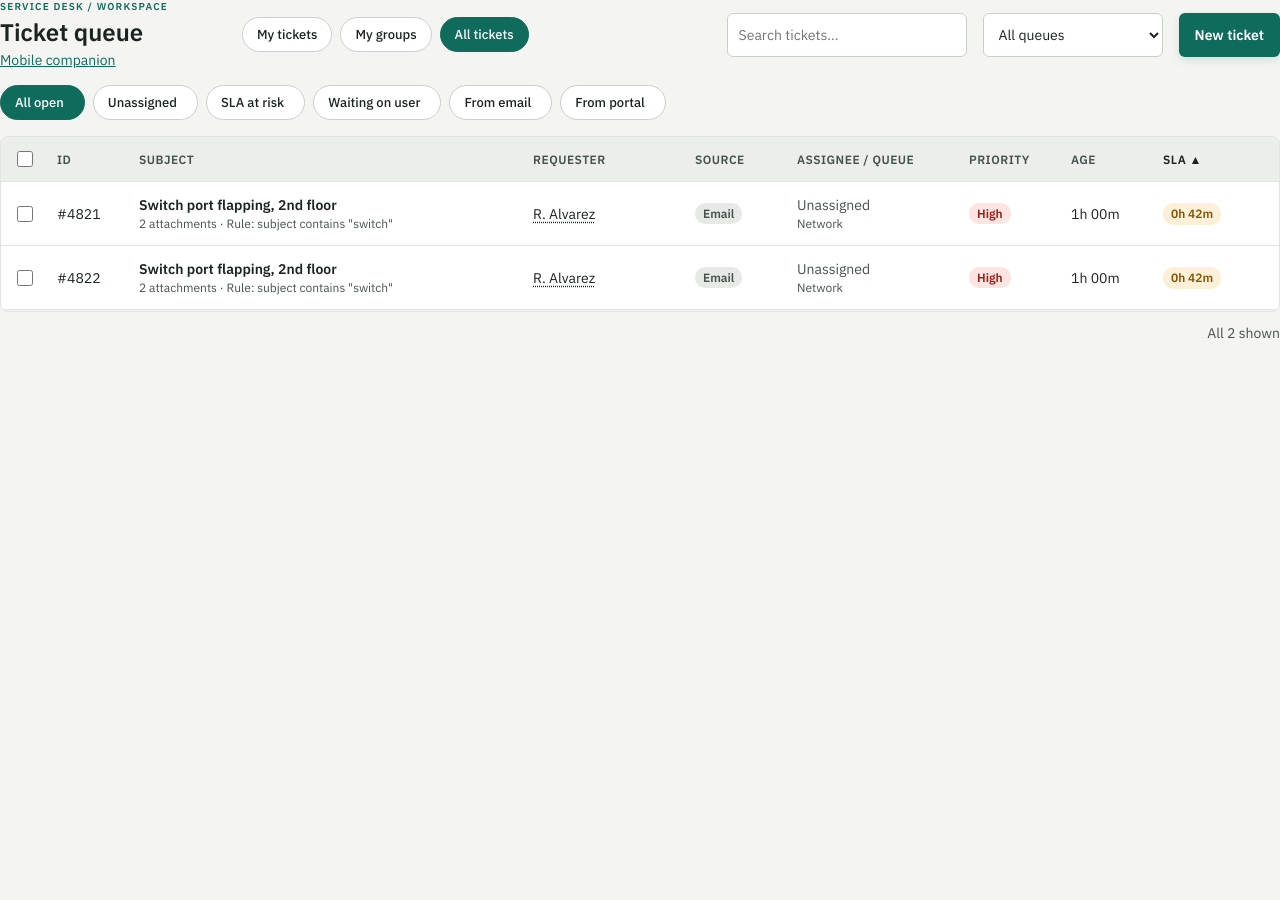
Test: delete permission alone permits selecting tickets but not reassignment
This screenshot has width=1280, height=900.
Click the checkbox named "Select #4821". click: point(25, 214)
box: [17,206,33,222]
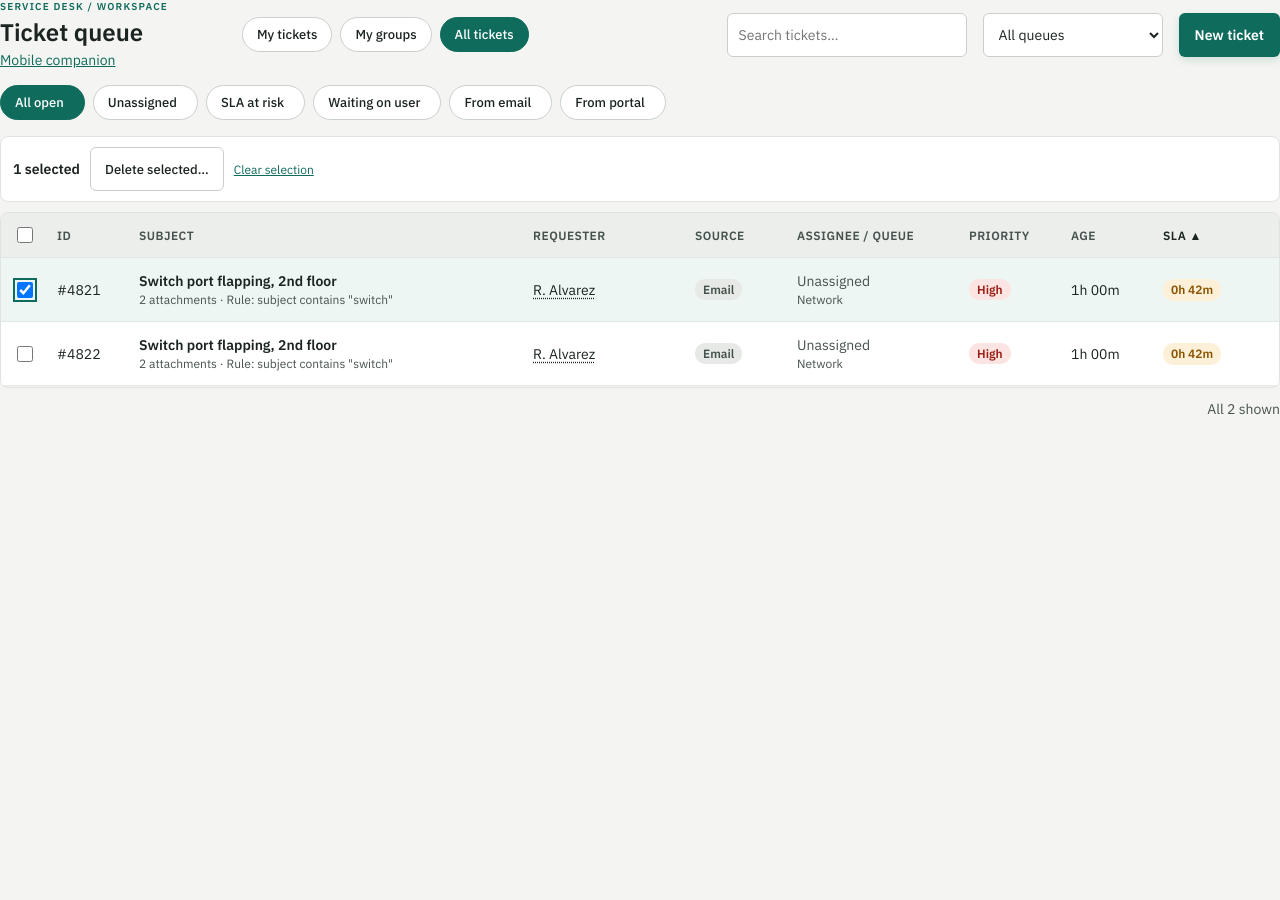
Click the checkbox named "Select #4822". click: point(25, 354)
box: [17,346,33,362]
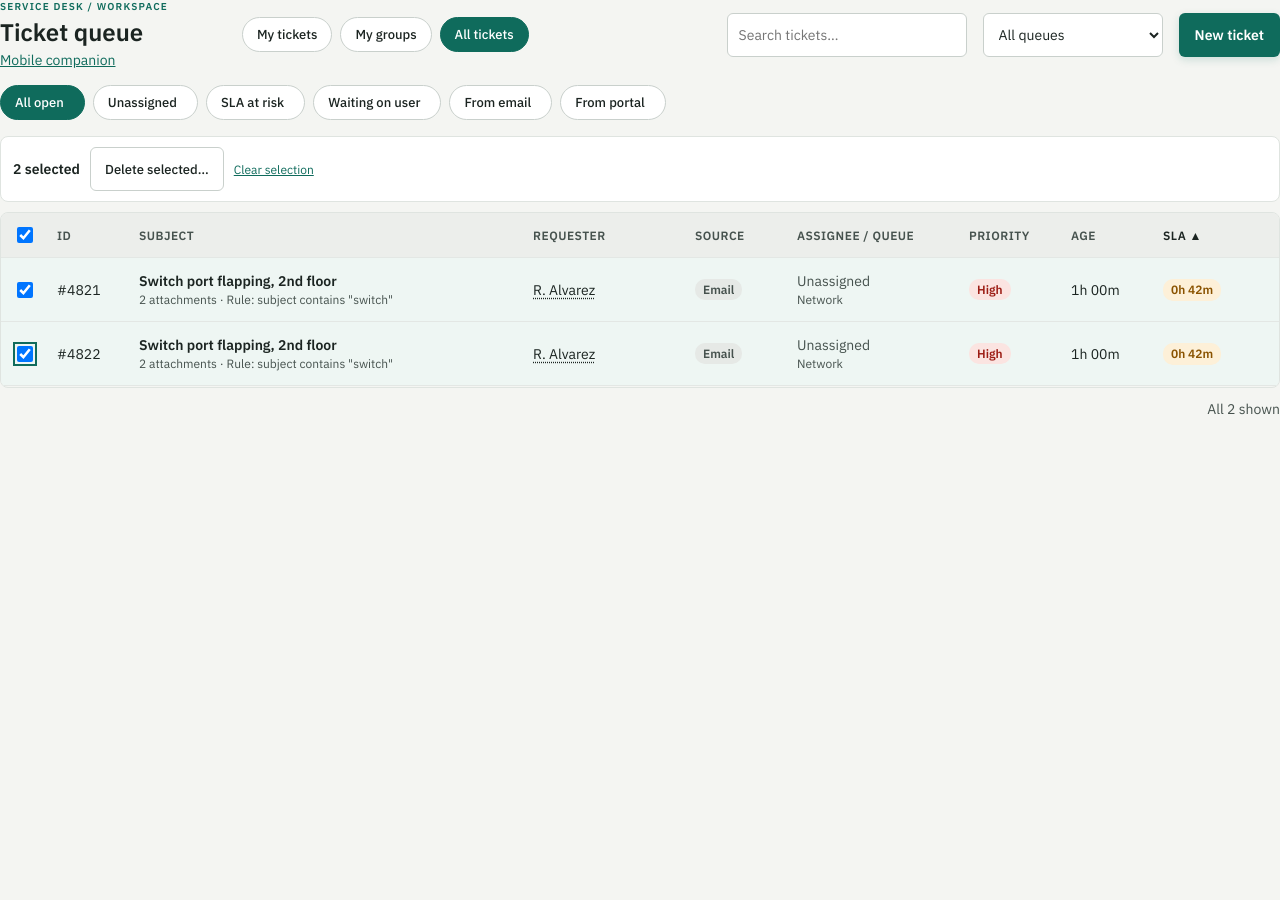
Click the button "Delete selected…". click: point(157, 169)
box: [90,147,224,191]
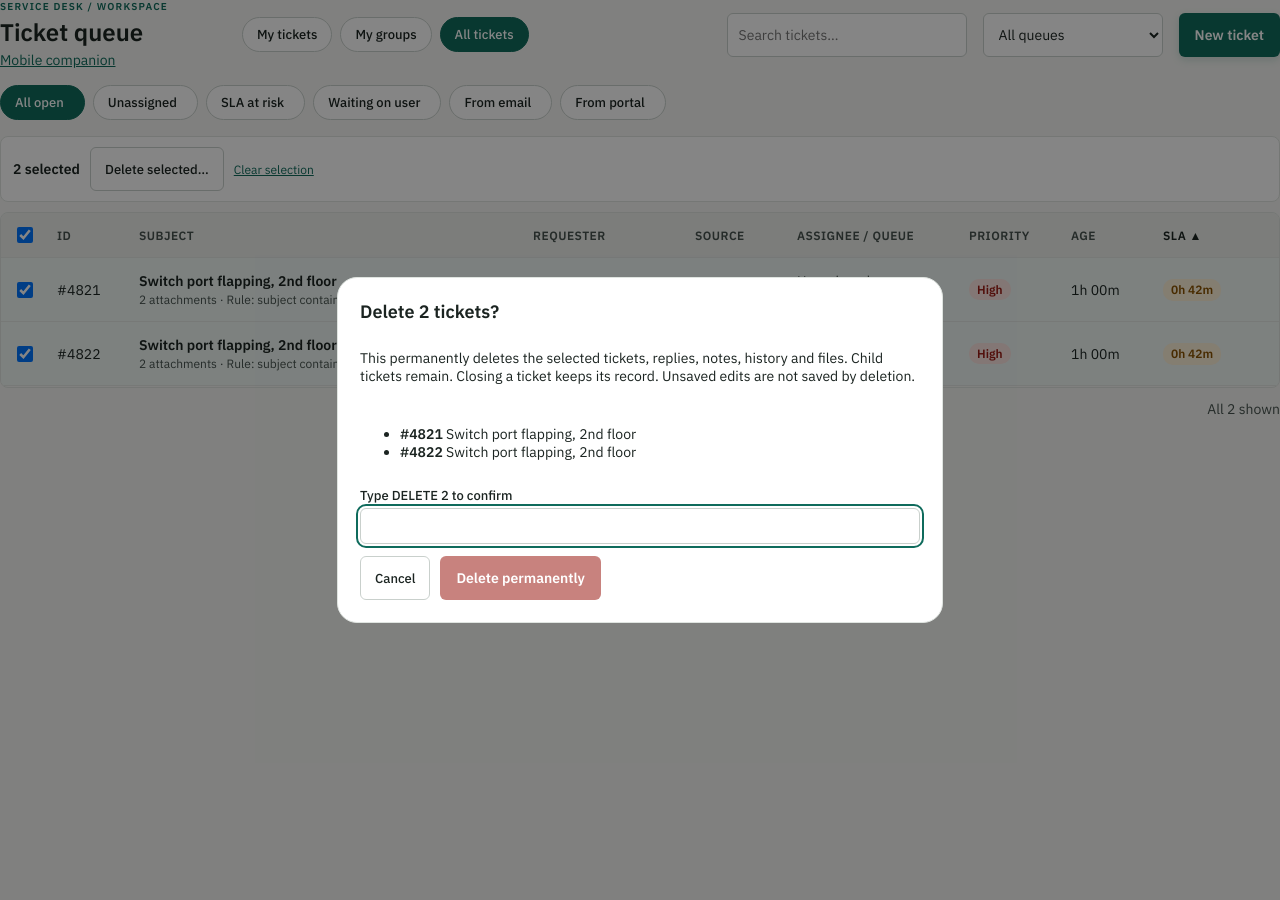
Check: the button "Delete permanently" is disabled, box [440,556,601,600]
Type "DELETE 2" into the field labelled "Type DELETE 2 to confirm". click: point(640, 526)
box: [360,508,920,544]
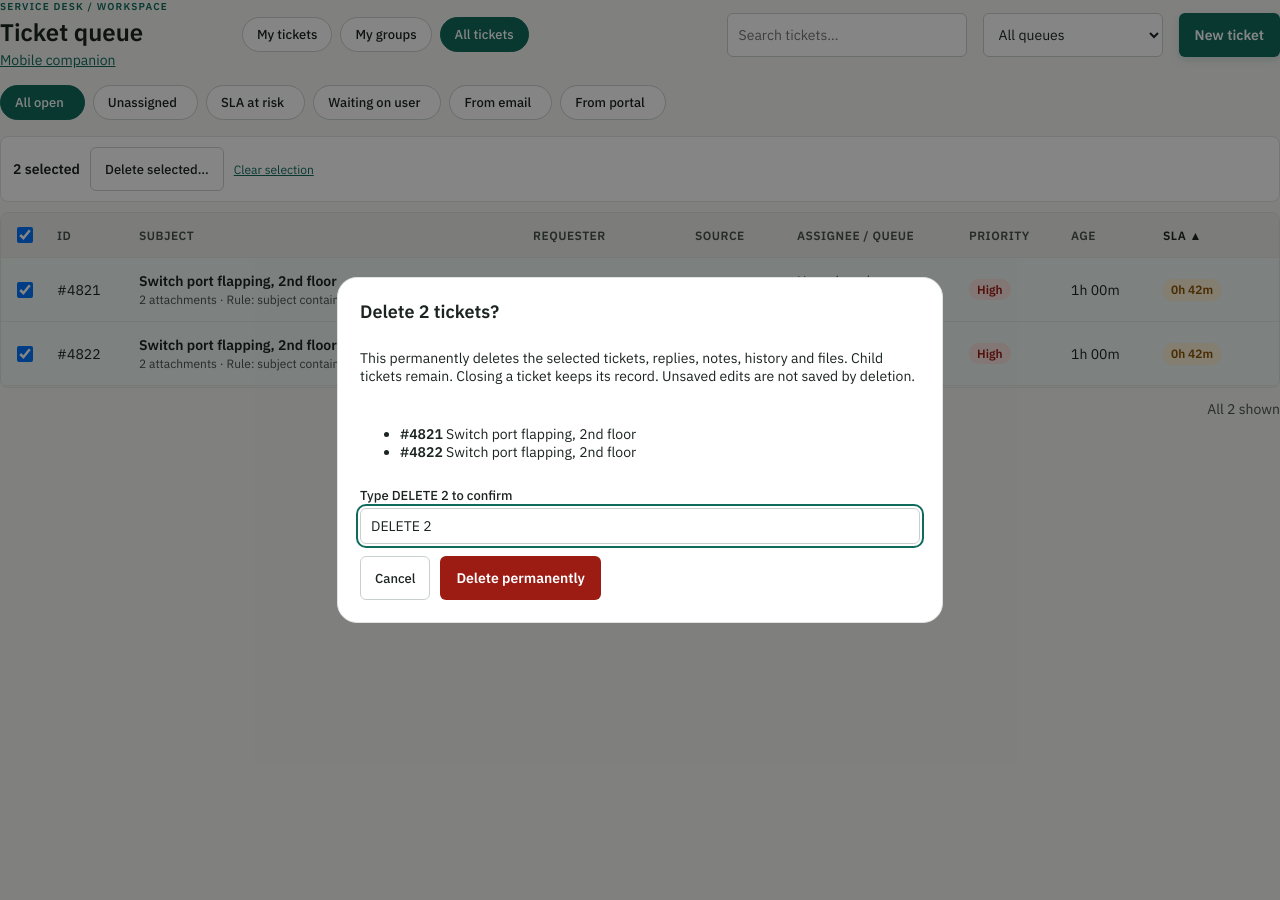
Click the button "Delete permanently". click: point(521, 578)
box: [440,556,601,600]
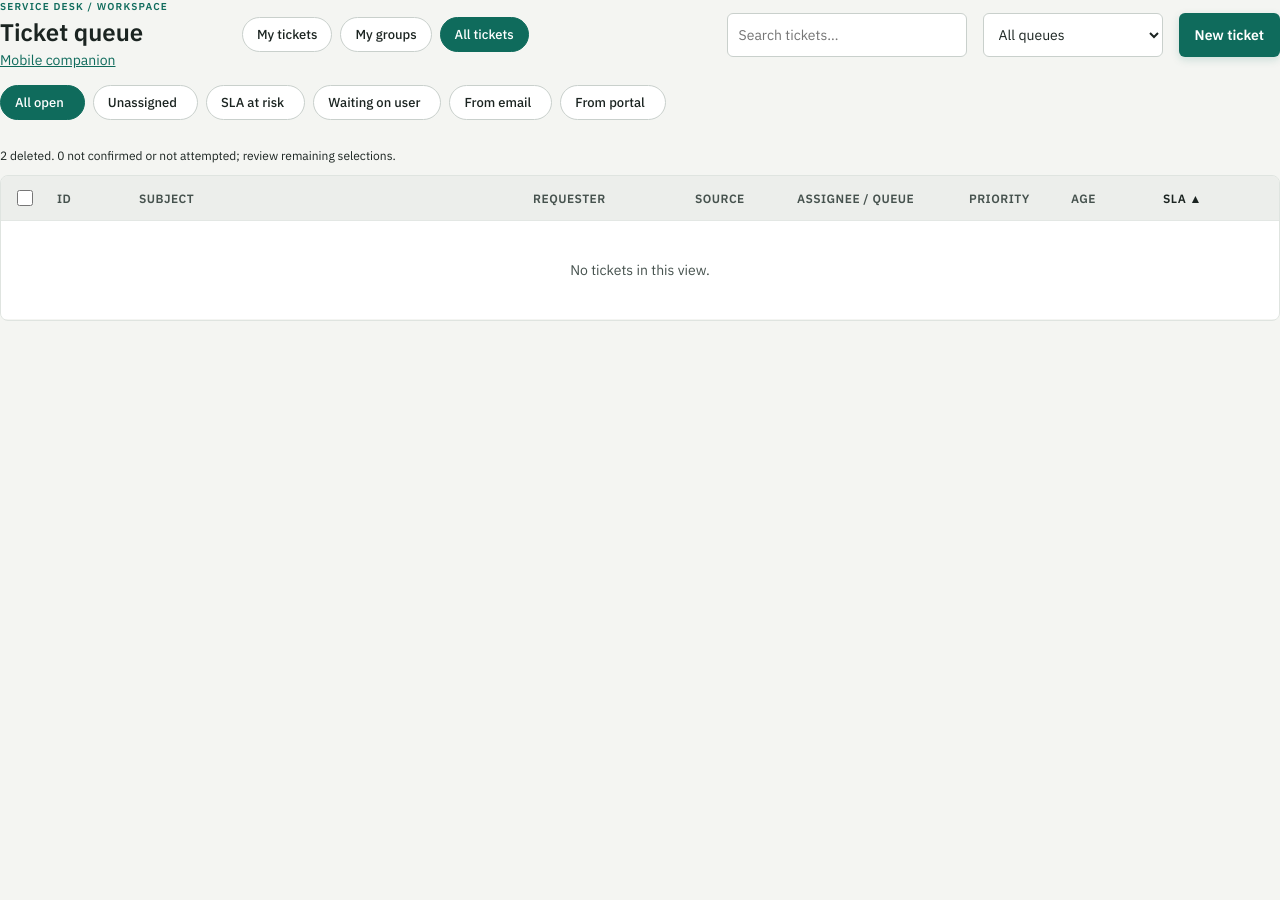
Check: the text "2 deleted. 0 not confirmed or not attempted; review remaining selections." is shown, box [0,148,396,163]
